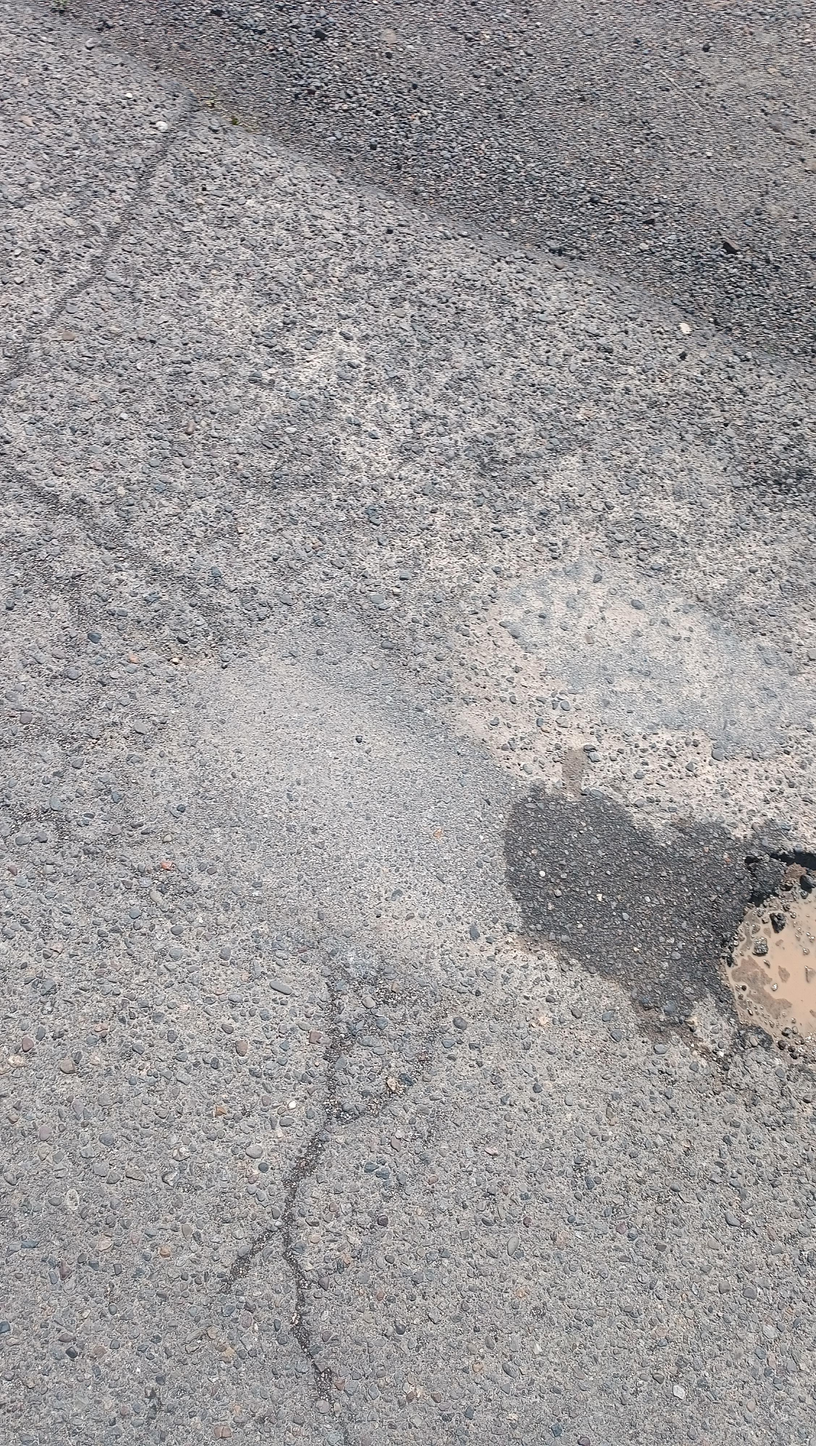BACHE: (718, 854, 816, 1070)
GRIETA: (2, 101, 197, 384), (0, 460, 238, 642), (278, 981, 351, 1446)
